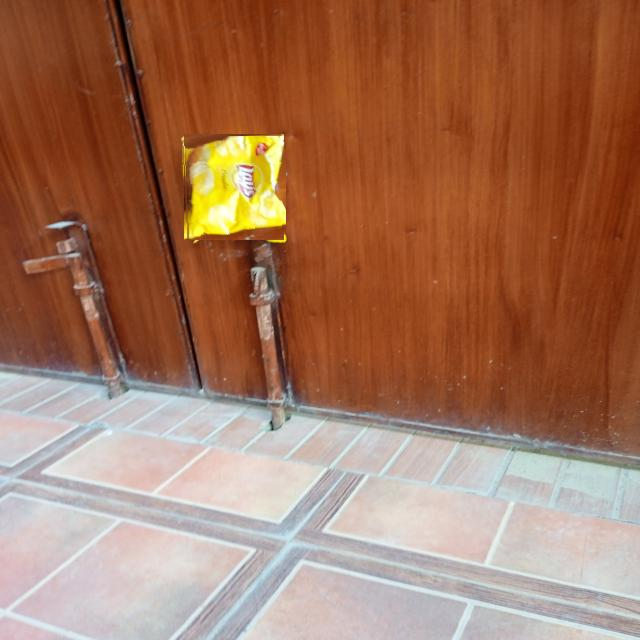Plastic: (182, 136, 286, 239)
